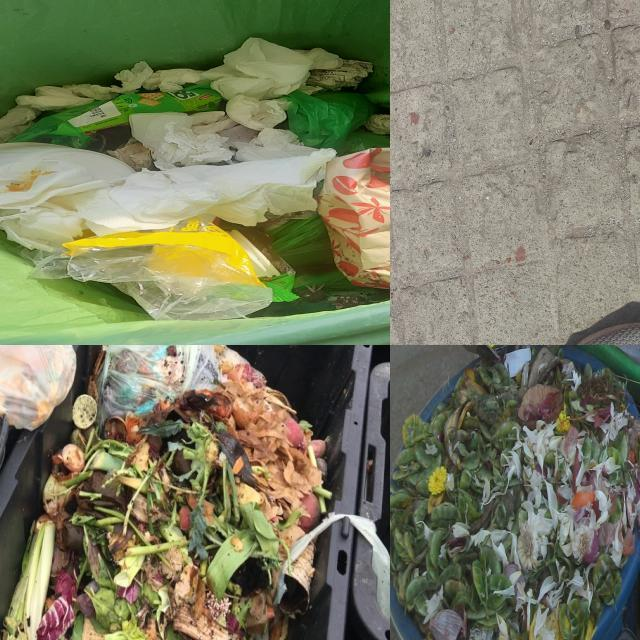Background: (390, 0, 640, 345)
Disposable: (0, 143, 136, 180)
Garbage: (0, 38, 390, 320), (0, 345, 330, 640), (390, 345, 640, 640)
Plastic_Bag: (36, 218, 273, 320), (95, 345, 219, 422), (285, 91, 374, 149), (267, 215, 334, 274), (331, 130, 390, 156)
Plastic_wraper: (11, 84, 222, 147), (258, 246, 298, 302), (106, 139, 155, 171)
